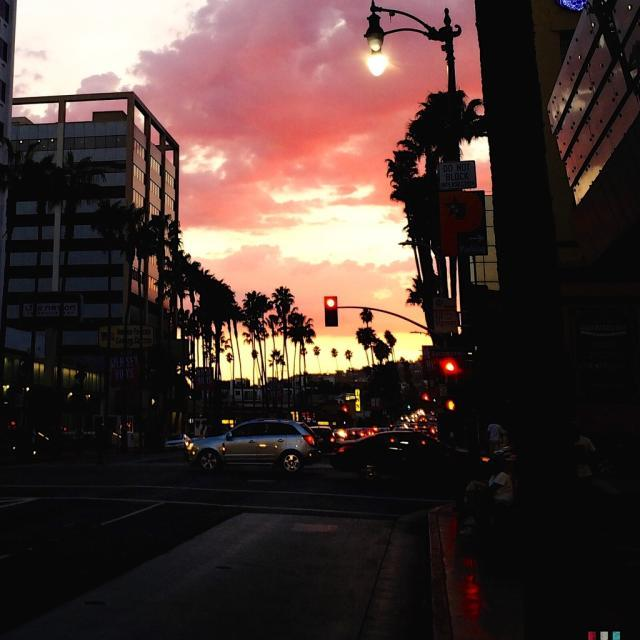traffic light: (324, 296, 339, 327)
